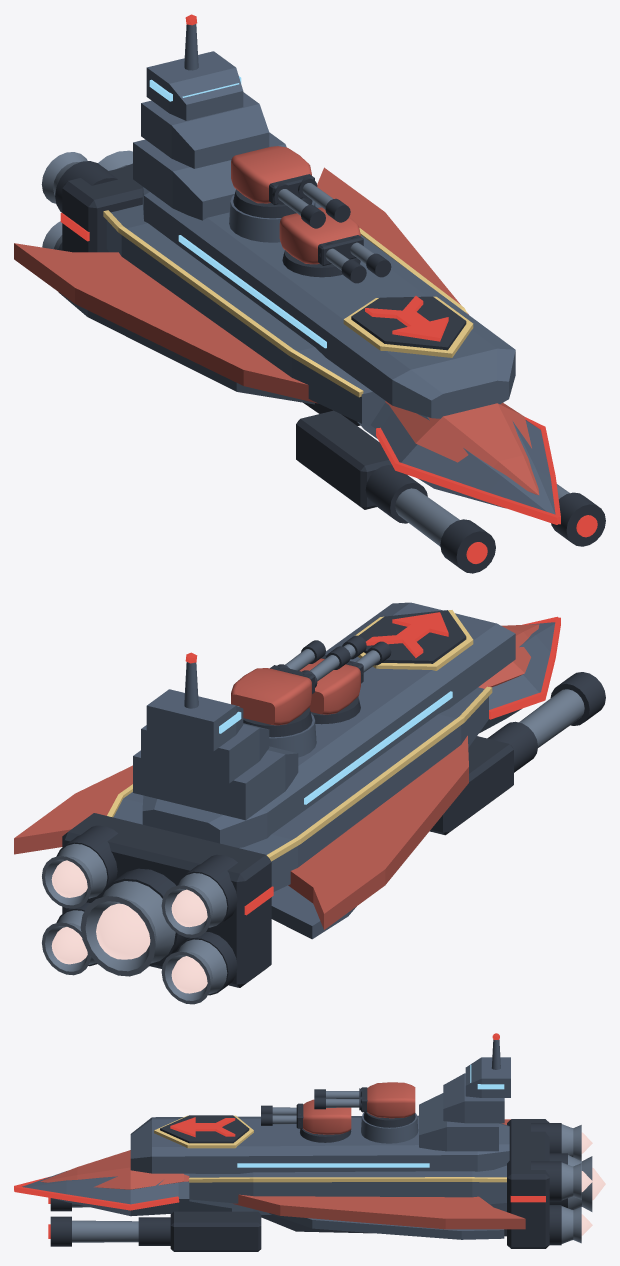
Rendered from vanguard.glb.
3 renders of one model, top to bottom at view 1: azimuth 30°, elevation 25°; view 2: azimuth 150°, elevation 25°; view 3: azimuth 270°, elevation 25°, orthographic. The views are drawn at different scales.
Parts seen in each view (by area): view 1: vanguard; view 2: vanguard; view 3: vanguard.
Boxes of the visible parts, left/top/right/bottom form: vanguard: left=14, top=14, right=605, bottom=573; vanguard: left=14, top=602, right=605, bottom=1004; vanguard: left=14, top=1033, right=605, bottom=1251.
Size of the model in its own units: 4.4 by 4.17 by 11.09.
